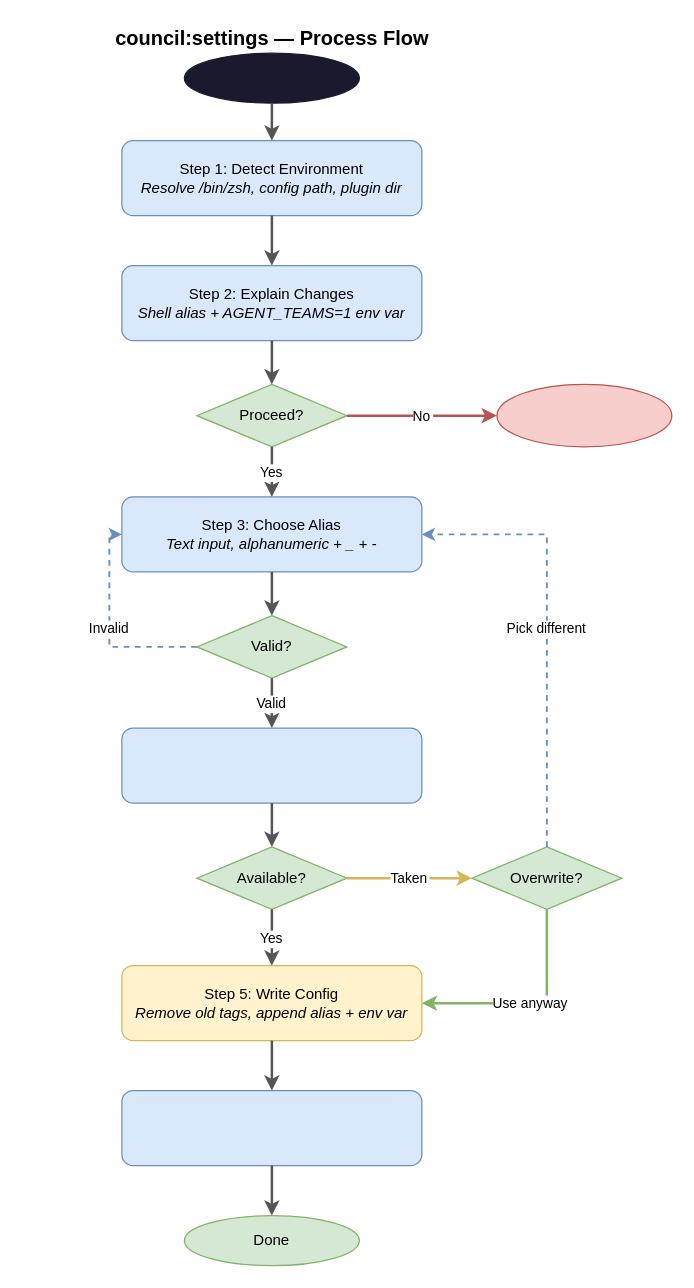
Image size: 694x1288. Some labels were removed from this diagram. Here are the shapes that lost their labels. From the top down, the box of each, then its label:
(183, 52, 359, 103): Start
(496, 383, 672, 447): Cancelled No changes made
(121, 727, 422, 803): Step 4: Check Availability command -v, alias lookup
(121, 1089, 422, 1166): Step 6: Report Success Show added lines, source command, next steps
